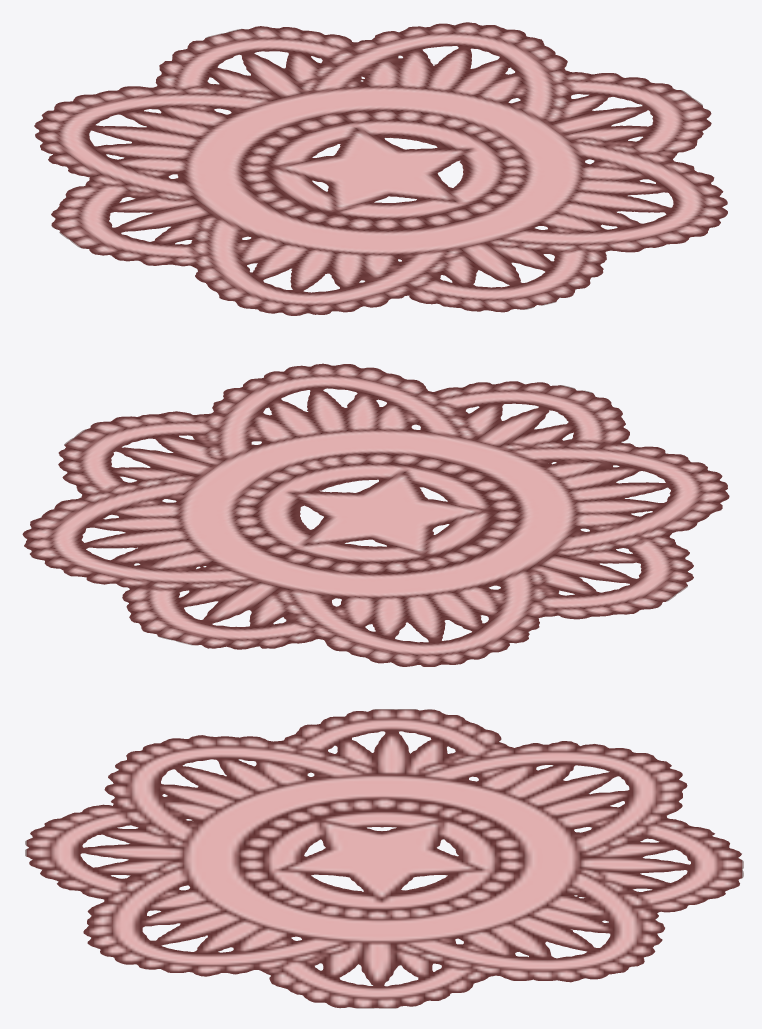
Rendered from Doily_B.FBX.
The picture shows the model from 3 angles, top to bottom: view 1: azimuth 30°, elevation 25°; view 2: azimuth 150°, elevation 25°; view 3: azimuth 270°, elevation 25°; orthographic projection.
Parts seen in each view (by area): view 1: Doily; view 2: Doily; view 3: Doily.
Boxes of the visible parts, x1,y1,x2,y2 form: Doily: [34, 22, 727, 315]; Doily: [22, 363, 729, 666]; Doily: [25, 709, 743, 1008].
Size of the model in its own units: 95.46 by 4.59e-06 by 94.01.
